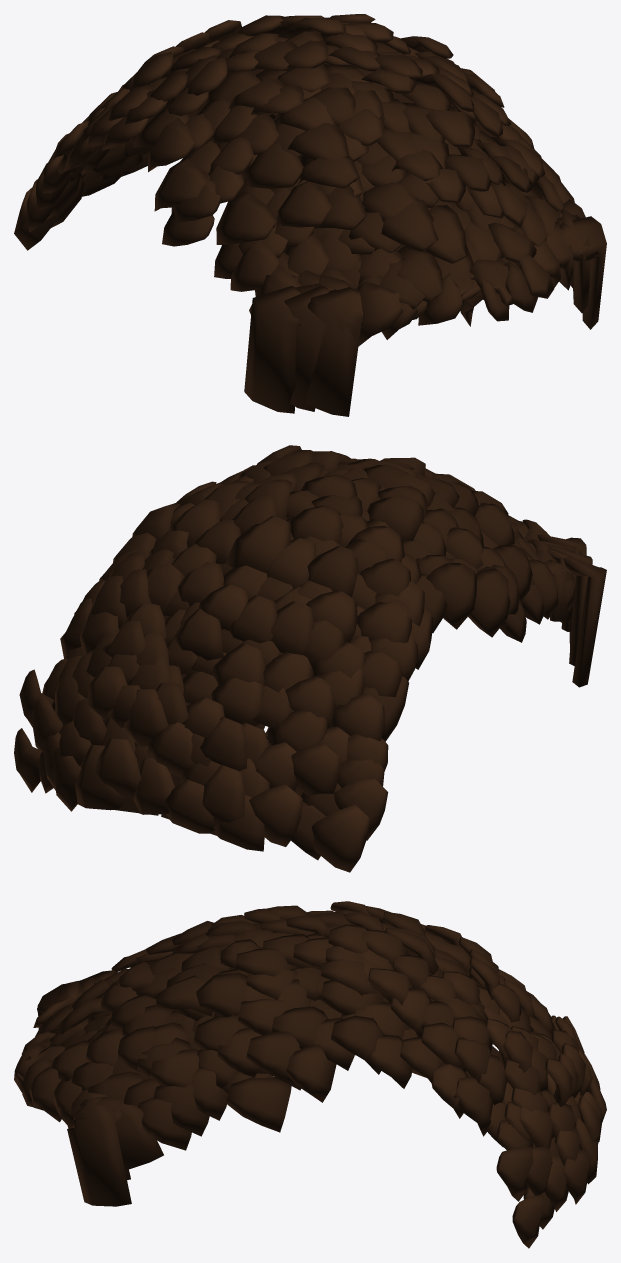
Rendered from kopf.haar.militaer.glb.
3 views of the same model, one above another, from view 1: azimuth 30°, elevation 25°; view 2: azimuth 150°, elevation 25°; view 3: azimuth 270°, elevation 25° (orthographic). The views are drawn at different scales.
Parts seen in each view (by area): view 1: haar; view 2: haar; view 3: haar.
Part boxes in pixels (bbox=[...]): haar: bbox=[14, 14, 606, 416]; haar: bbox=[14, 445, 606, 872]; haar: bbox=[14, 901, 606, 1248].
Size of the model in its own units: 0.1283 by 0.0903 by 0.1911.
